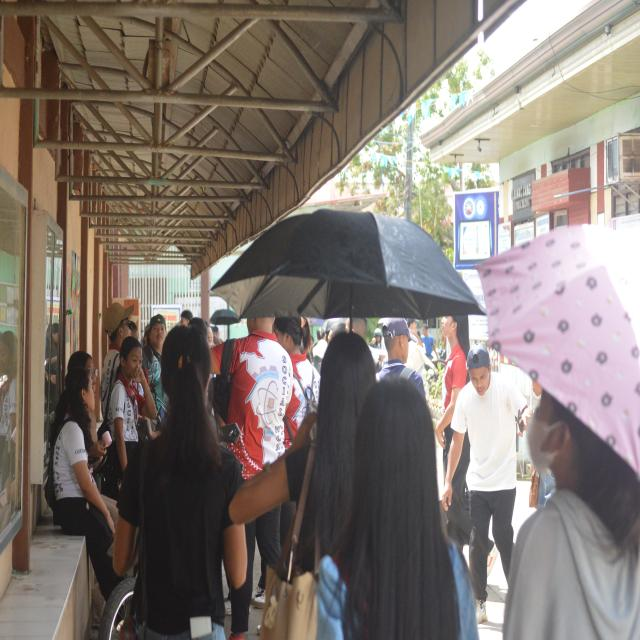person: (317, 376, 478, 639), (113, 326, 246, 639), (230, 333, 375, 571), (504, 392, 639, 639), (443, 344, 530, 623), (50, 368, 120, 599), (227, 317, 292, 479), (104, 337, 156, 498), (436, 316, 470, 476), (101, 303, 134, 416), (378, 318, 424, 393), (143, 315, 166, 418), (180, 310, 193, 325)
